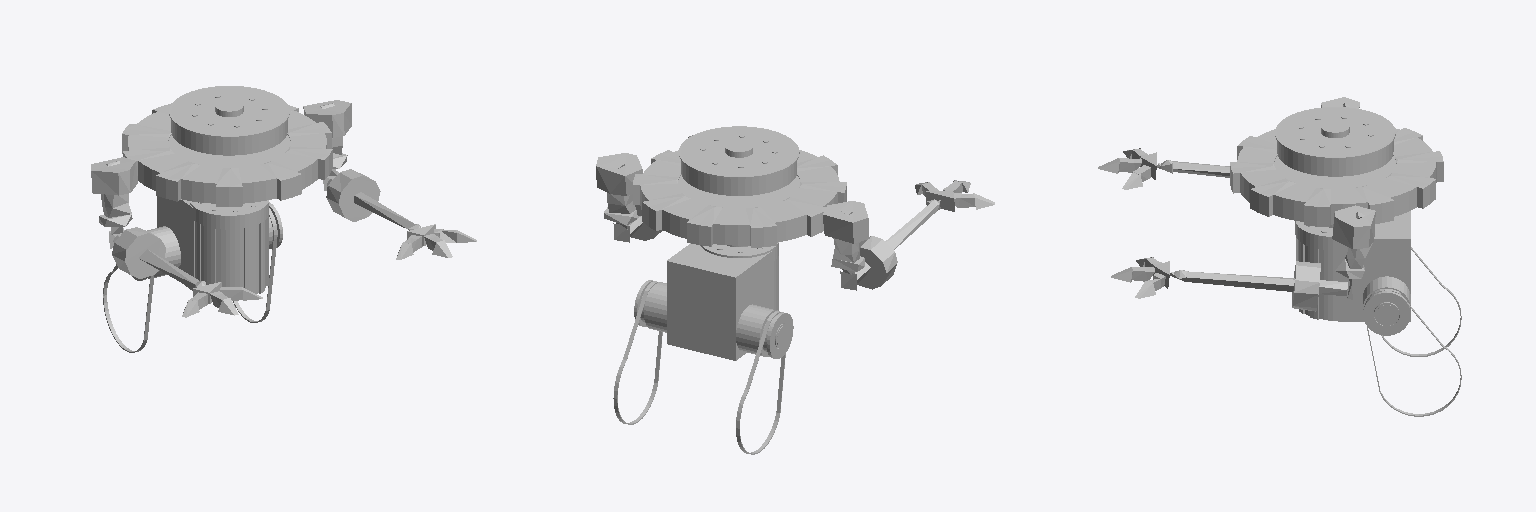
The model's file is RobotRece_000004.obj.
3 views of the same model, side by side, from view 1: azimuth 30°, elevation 25°; view 2: azimuth 150°, elevation 25°; view 3: azimuth 270°, elevation 25° (orthographic).
Visible parts, largest first — view 1: Cylinder.007, Cube_Cube.003; view 2: Cylinder.007, Cube_Cube.003; view 3: Cylinder.007, Cube_Cube.003.
Boxes of the visible parts, x1=… form: Cylinder.007: x1=103, y1=86, x2=332, y2=352; Cube_Cube.003: x1=91, y1=100, x2=476, y2=317; Cylinder.007: x1=613, y1=126, x2=846, y2=454; Cube_Cube.003: x1=596, y1=135, x2=994, y2=290; Cylinder.007: x1=1230, y1=107, x2=1461, y2=416; Cube_Cube.003: x1=1098, y1=97, x2=1375, y2=311.
Size of the model in its own units: 4.59 by 3.78 by 4.79.